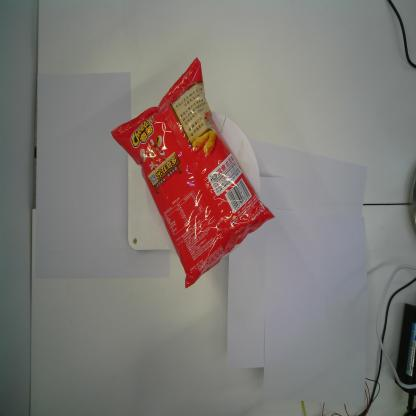Puffed Food: (109, 54, 277, 292)
